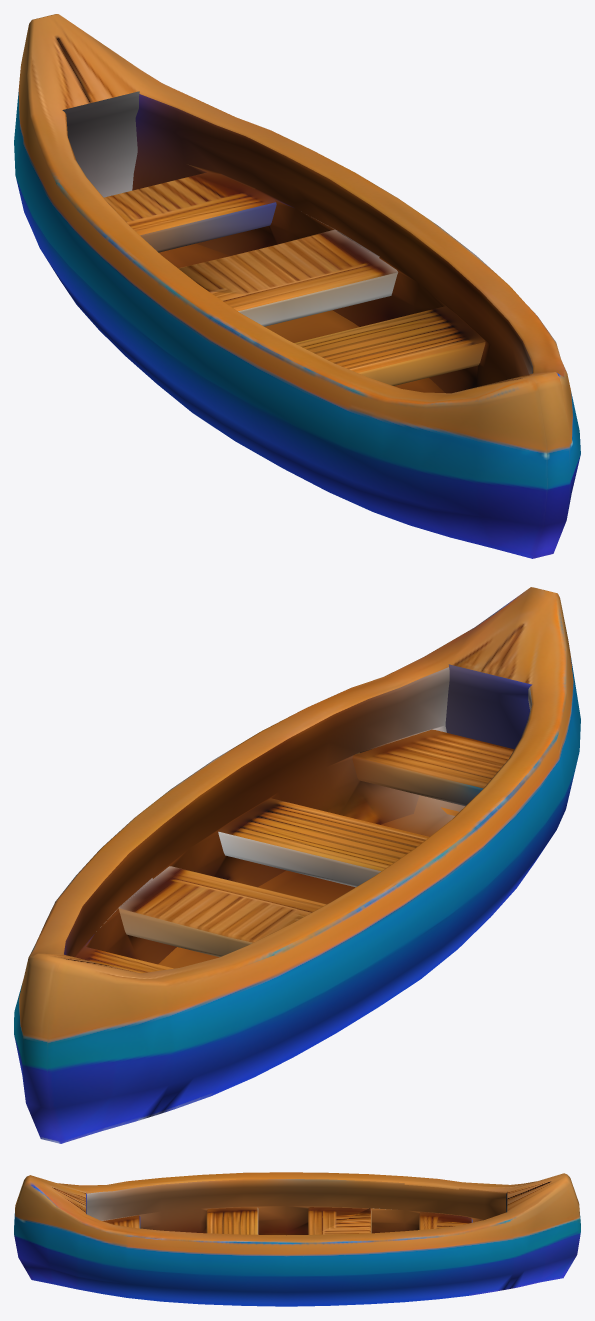
The model's file is barca.fbx.
3 views of the same model, one above another, from view 1: azimuth 30°, elevation 25°; view 2: azimuth 150°, elevation 25°; view 3: azimuth 270°, elevation 25° (orthographic). The views are drawn at different scales.
Visible parts, largest first — view 1: texture_pbr_v128; view 2: texture_pbr_v128; view 3: texture_pbr_v128.
Part boxes in pixels (x1,y1,x2,y2): texture_pbr_v128: [14, 14, 580, 558]; texture_pbr_v128: [14, 587, 580, 1143]; texture_pbr_v128: [14, 1172, 580, 1306].
Size of the model in its own units: 251 by 154 by 796.
